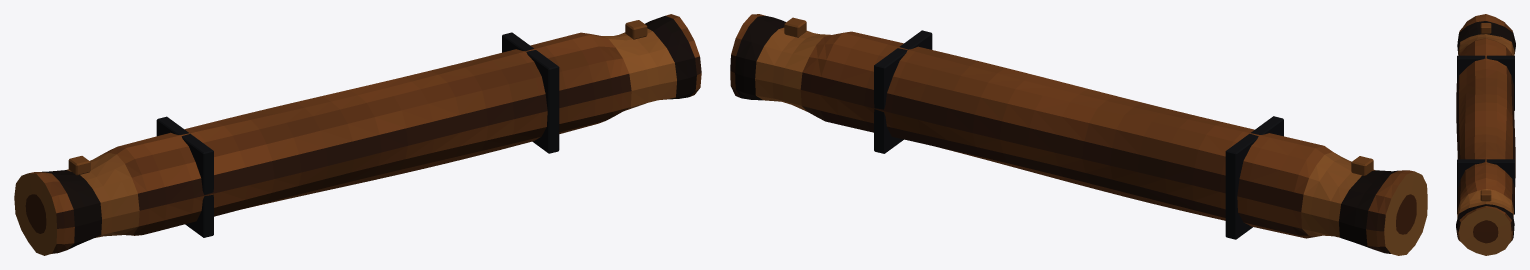
Rendered from mod_log_beam_2m.glb.
3 renders of one model, left to right at view 1: azimuth 30°, elevation 25°; view 2: azimuth 150°, elevation 25°; view 3: azimuth 270°, elevation 25°, orthographic. The views are drawn at different scales.
Parts seen in each view (by area): view 1: Mod_Log_Beam_2m; view 2: Mod_Log_Beam_2m; view 3: Mod_Log_Beam_2m.
Boxes of the visible parts, x1,y1,x2,y2 form: Mod_Log_Beam_2m: (14, 14, 701, 255); Mod_Log_Beam_2m: (730, 14, 1427, 255); Mod_Log_Beam_2m: (1456, 14, 1515, 255).
Bounding box in the file's own units: 2.08 × 0.2672 × 0.2726.
